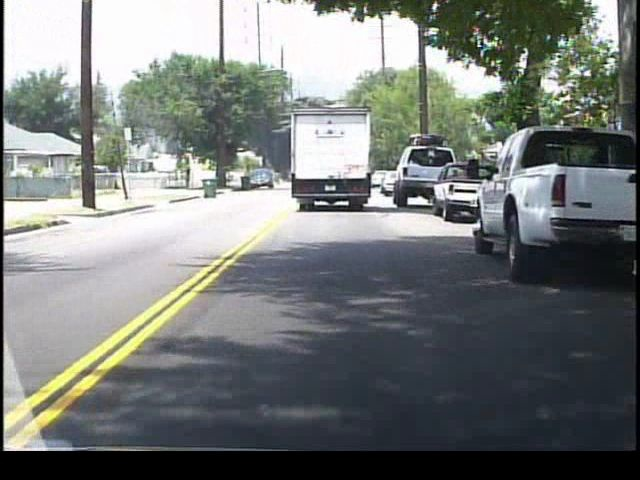person: (184, 164, 194, 188)
